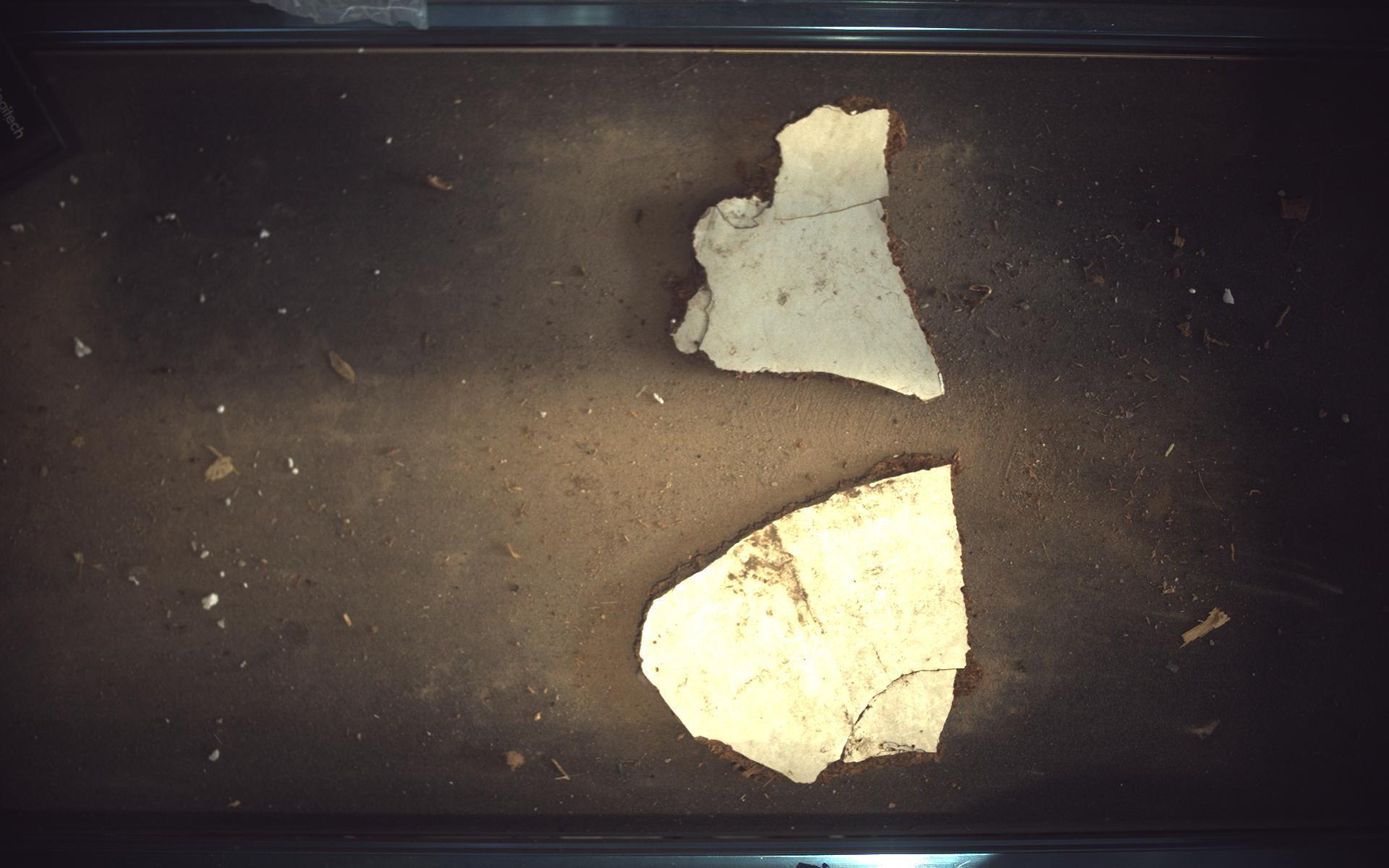wood: (640, 464, 971, 785), (675, 105, 946, 400)
